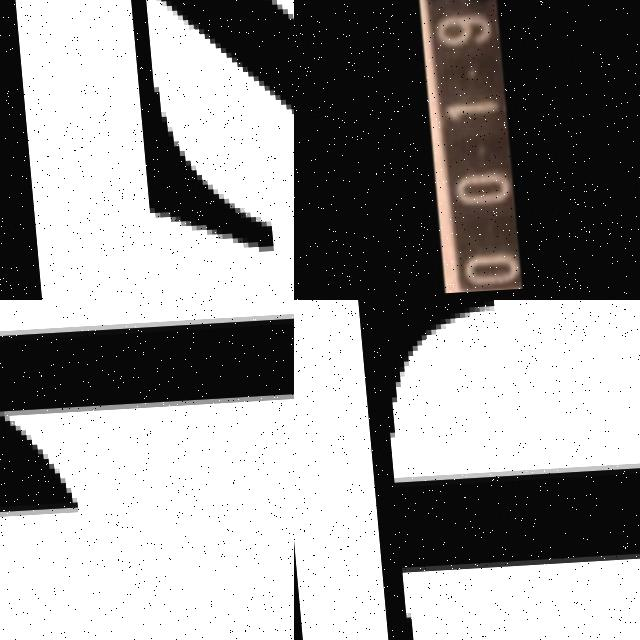0: (448, 254, 510, 294), (440, 173, 499, 215)
1: (0, 316, 294, 529), (431, 97, 493, 131)
9: (424, 15, 487, 55)
T: (345, 300, 640, 640)
Z: (109, 0, 294, 300)
